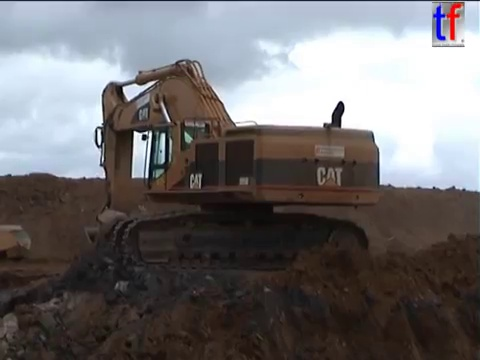excavator: (75, 55, 383, 282)
truck: (1, 220, 33, 255)
